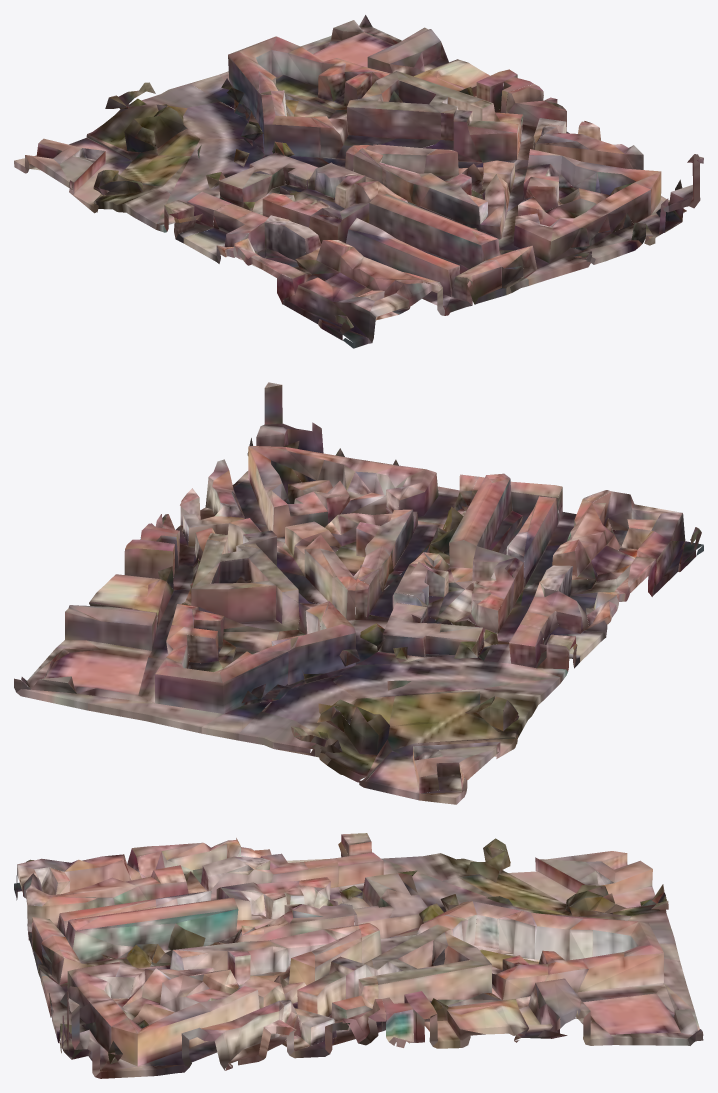
3 views of the same model, one above another, from view 1: azimuth 30°, elevation 25°; view 2: azimuth 150°, elevation 25°; view 3: azimuth 270°, elevation 25° (orthographic). The views are drawn at different scales.
Visible parts, largest first — view 1: Mesh_0; view 2: Mesh_0; view 3: Mesh_0.
Boxes of the visible parts, box(x1,y1,x2,y2) form: Mesh_0: box(14, 15, 703, 348); Mesh_0: box(14, 382, 703, 804); Mesh_0: box(14, 833, 703, 1078).
Bounding box in the file's own units: 266 × 60.35 × 330.
2 materials, 2 textured.
